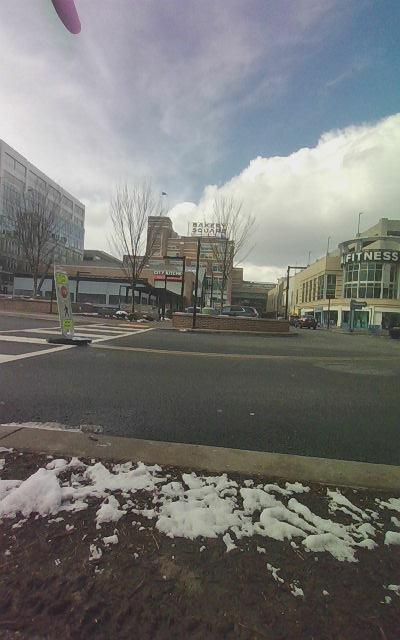curb: (0, 426, 399, 639)
road: (0, 316, 399, 466)
